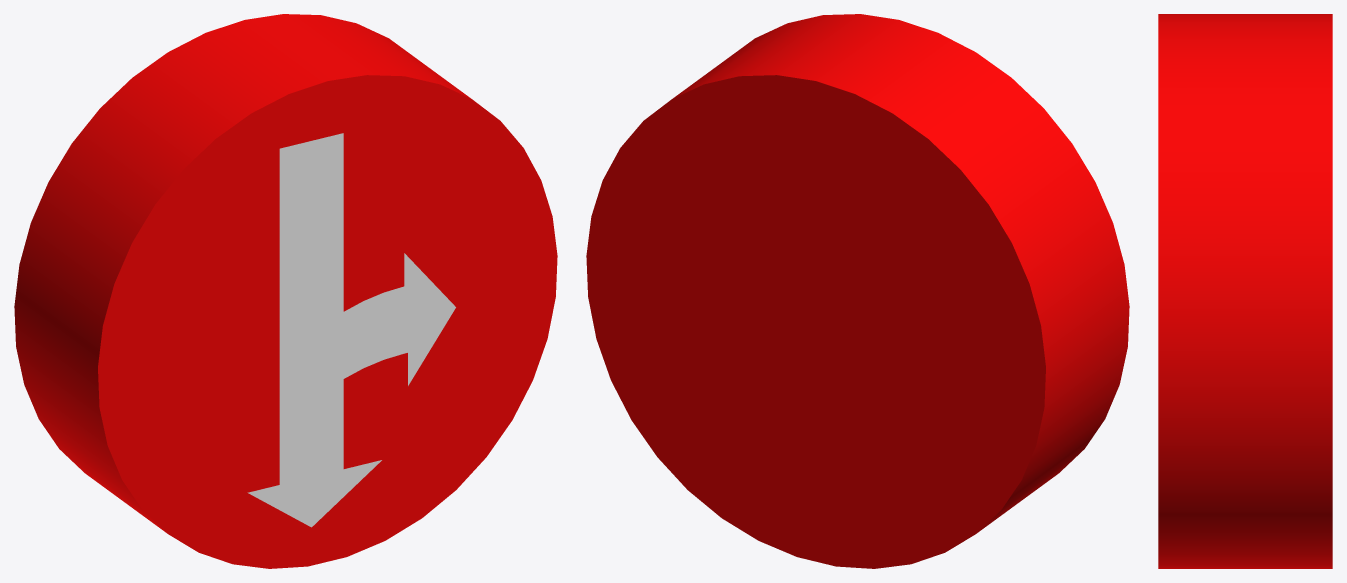
3 renders of one model, left to right at view 1: azimuth 30°, elevation 25°; view 2: azimuth 150°, elevation 25°; view 3: azimuth 270°, elevation 25°, orthographic. The views are drawn at different scales.
Parts seen in each view (by area): view 1: Surface 376, Surface 370; view 2: Surface 376; view 3: Surface 376.
Boxes of the visible parts, x1,y1,x2,y2 form: Surface 376: [14, 14, 557, 568]; Surface 370: [247, 133, 455, 527]; Surface 376: [586, 14, 1129, 568]; Surface 376: [1158, 14, 1332, 568].
Size of the model in its own units: 0.0107 by 0.0107 by 0.00337.
